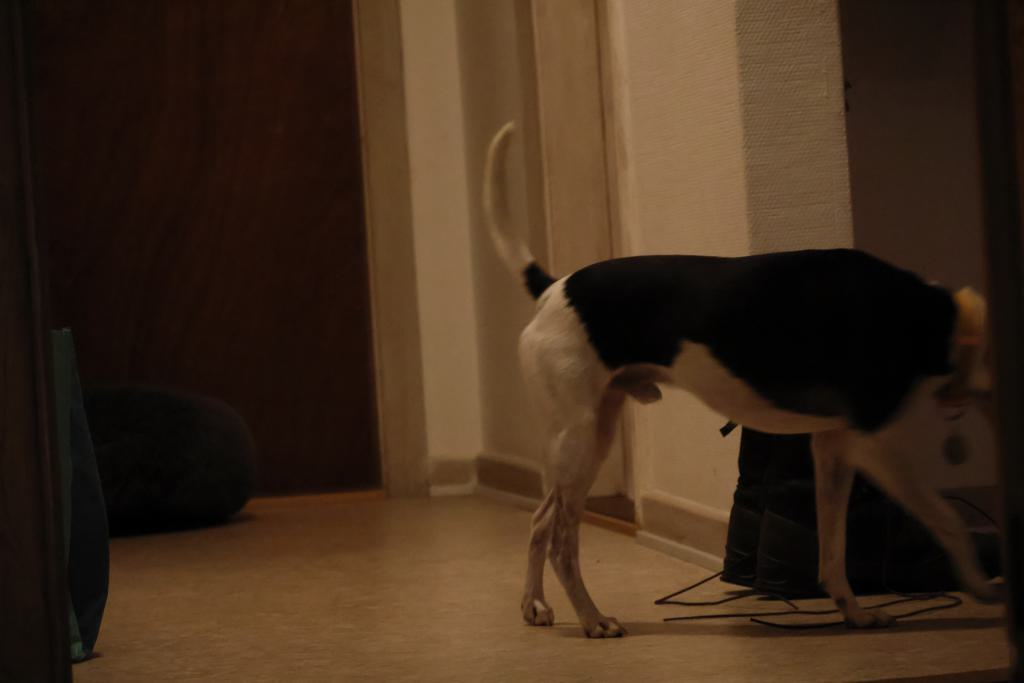Dog: (469, 107, 1006, 646)
